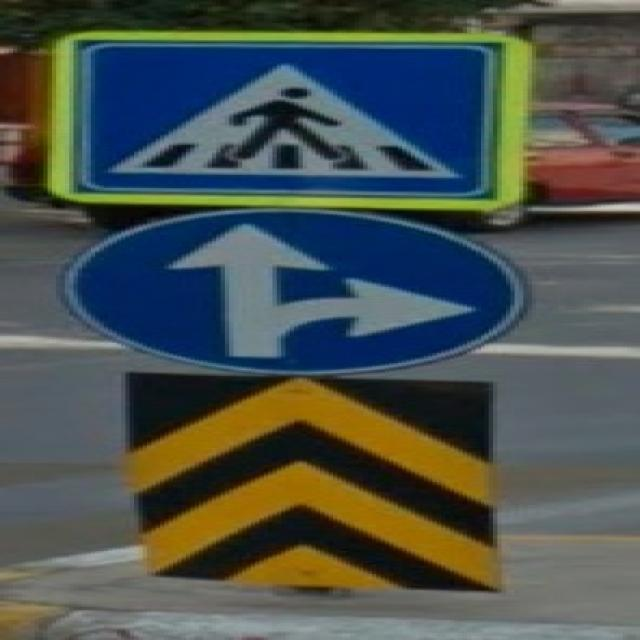Straight or Right: (68, 209, 535, 373)
